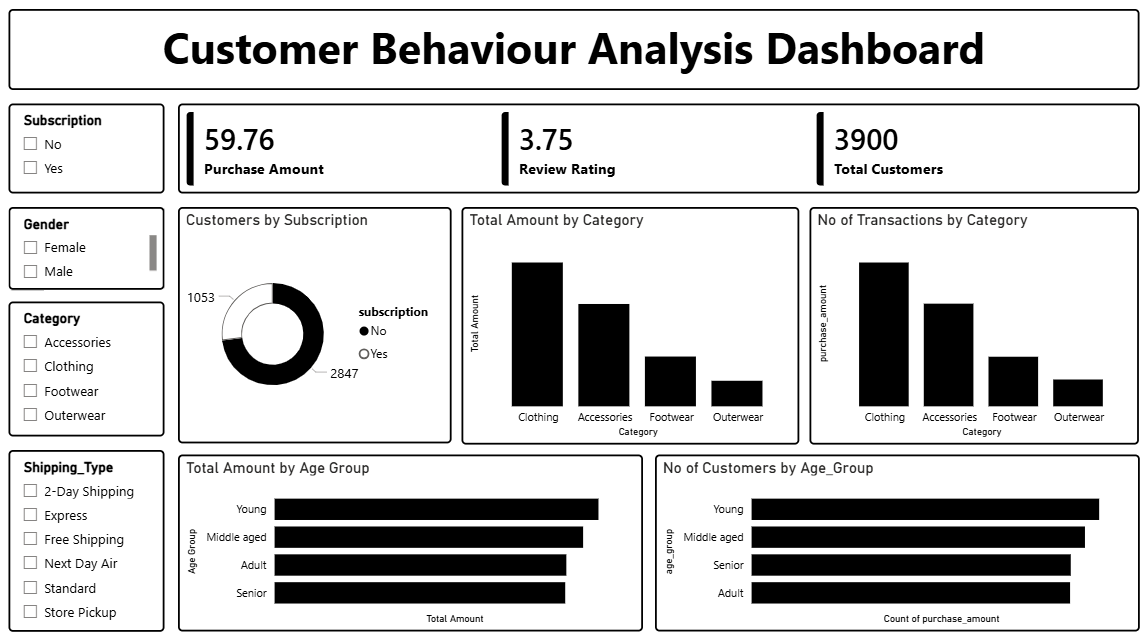

What the dashboard file says about the page in this screenshot:
{"tool":"powerbi","page":{"name":"Page 1","canvas":[1280,720],"ordinal":0},"visuals":[{"type":"cardVisual","fields":{"Data":["public customer.Average Purchase Amount","public customer.Average Review Rating","public customer.Number of Customers"]},"box":[200,118.3,1068.3,100],"z":0},{"type":"donutChart","title":"Customers by Subscription","fields":{"Category":["public customer.subscription_status"],"Y":["CountNonNull(public customer.customer_id)"]},"box":[200.4,233.8,303.8,262.5],"z":1000},{"type":"clusteredColumnChart","title":"Total Amount by Category","fields":{"Category":["public customer.category"],"Y":["Sum(public customer.purchase_amount)"]},"box":[514.2,232.9,375.1,264.1],"z":2000},{"type":"clusteredColumnChart","fields":{"Y":["CountNonNull(public customer.purchase_amount)"],"Category":["public customer.category"]},"box":[901.8,232.9,365.7,264.1],"z":3000},{"type":"slicer","fields":{"Values":["public customer.subscription_status"]},"box":[11.7,118.3,173.3,100],"z":4000},{"type":"slicer","fields":{"Values":["public customer.gender"]},"box":[11.7,233.3,173.3,91.7],"z":5000},{"type":"slicer","fields":{"Values":["public customer.category"]},"box":[11.7,338.3,173.3,150],"z":6000},{"type":"slicer","fields":{"Values":["public customer.shipping_type"]},"box":[11.7,503.3,173.3,201.7],"z":7000},{"type":"barChart","fields":{"Y":["Sum(public customer.purchase_amount)"],"Category":["public customer.age_group"]},"box":[200,508.3,516.7,196.7],"z":8000},{"type":"barChart","fields":{"Y":["CountNonNull(public customer.purchase_amount)"],"Category":["public customer.age_group"]},"box":[730,508.3,538.3,196.7],"z":9000},{"type":"textbox","box":[11.7,13.3,1256.7,90],"z":10000}]}

Visuals, with their boxes in screenshot pixels (x1, y1, x2, y2), scaled from the page's 1280x720 canvas onto the 1148x639 screenshot:
cardVisual - public customer.Average Purchase Amount x public customer.Average Review Rating: x1=179, y1=105, x2=1138, y2=194
"Customers by Subscription" donutChart: x1=180, y1=207, x2=452, y2=440
"Total Amount by Category" clusteredColumnChart: x1=461, y1=207, x2=798, y2=441
clusteredColumnChart - CountNonNull(public customer.purchase_amount) x public customer.category: x1=809, y1=207, x2=1137, y2=441
slicer - public customer.subscription_status: x1=10, y1=105, x2=166, y2=194
slicer - public customer.gender: x1=10, y1=207, x2=166, y2=288
slicer - public customer.category: x1=10, y1=300, x2=166, y2=433
slicer - public customer.shipping_type: x1=10, y1=447, x2=166, y2=626
barChart - Sum(public customer.purchase_amount) x public customer.age_group: x1=179, y1=451, x2=643, y2=626
barChart - CountNonNull(public customer.purchase_amount) x public customer.age_group: x1=655, y1=451, x2=1138, y2=626
textbox: x1=10, y1=12, x2=1138, y2=92
